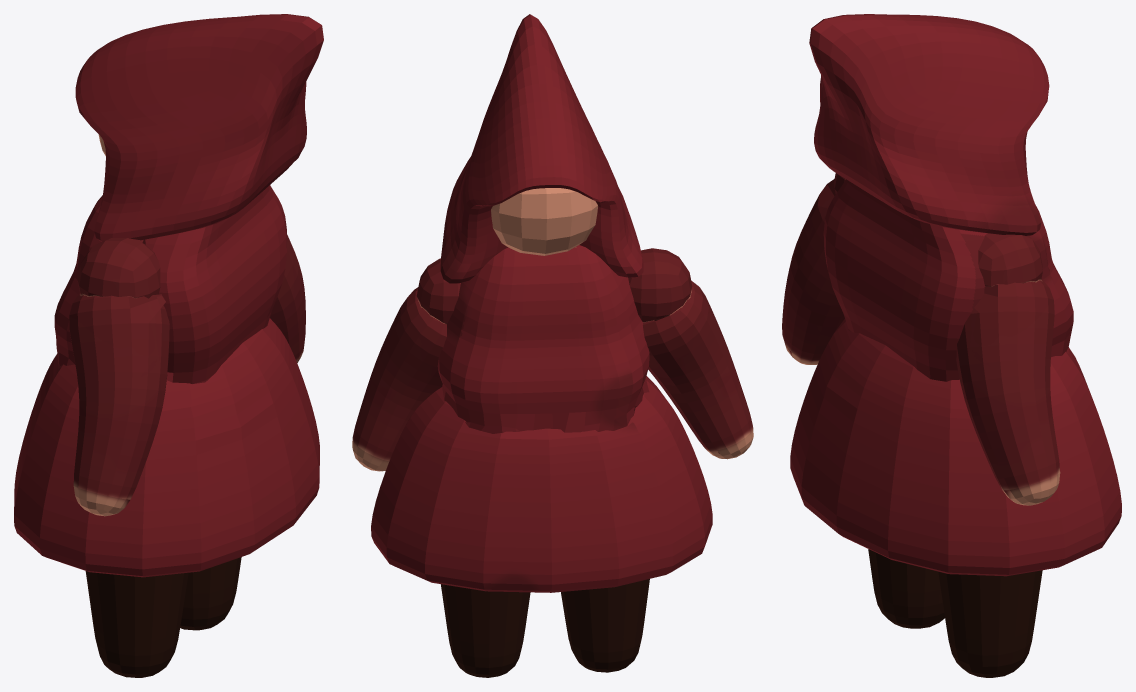
The model's file is MOZIC.gltf.
3 renders of one model, left to right at view 1: azimuth 30°, elevation 25°; view 2: azimuth 150°, elevation 25°; view 3: azimuth 270°, elevation 25°, orthographic. The views are drawn at different scales.
Parts seen in each view (by area): view 1: telo, desna_roka, noga_desna, leva_noga, leva_roka; view 2: telo, desna_roka, leva_roka, leva_noga, noga_desna; view 3: telo, leva_roka, leva_noga, desna_roka, noga_desna.
Boxes of the visible parts, box(x1,y1,x2,y2) form: telo: box(14, 14, 323, 577); desna_roka: box(69, 238, 169, 516); noga_desna: box(85, 571, 188, 677); leva_noga: box(180, 557, 241, 630); leva_roka: box(270, 234, 305, 362); telo: box(371, 14, 712, 592); desna_roka: box(628, 248, 753, 459); leva_roka: box(352, 258, 460, 471); leva_noga: box(441, 584, 530, 677); noga_desna: box(561, 579, 649, 672); telo: box(790, 14, 1121, 576); leva_roka: box(956, 233, 1060, 505); leva_noga: box(938, 570, 1042, 677); desna_roka: box(782, 173, 845, 364); noga_desna: box(868, 549, 944, 628).
Bounding box in the file's own units: 3.96 × 7.57 × 3.48.
5 materials, 5 textured.
